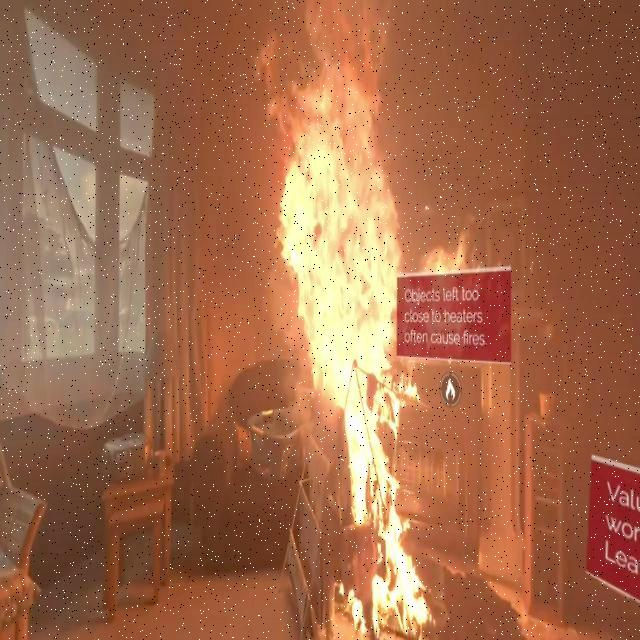fire: (258, 8, 436, 640)
